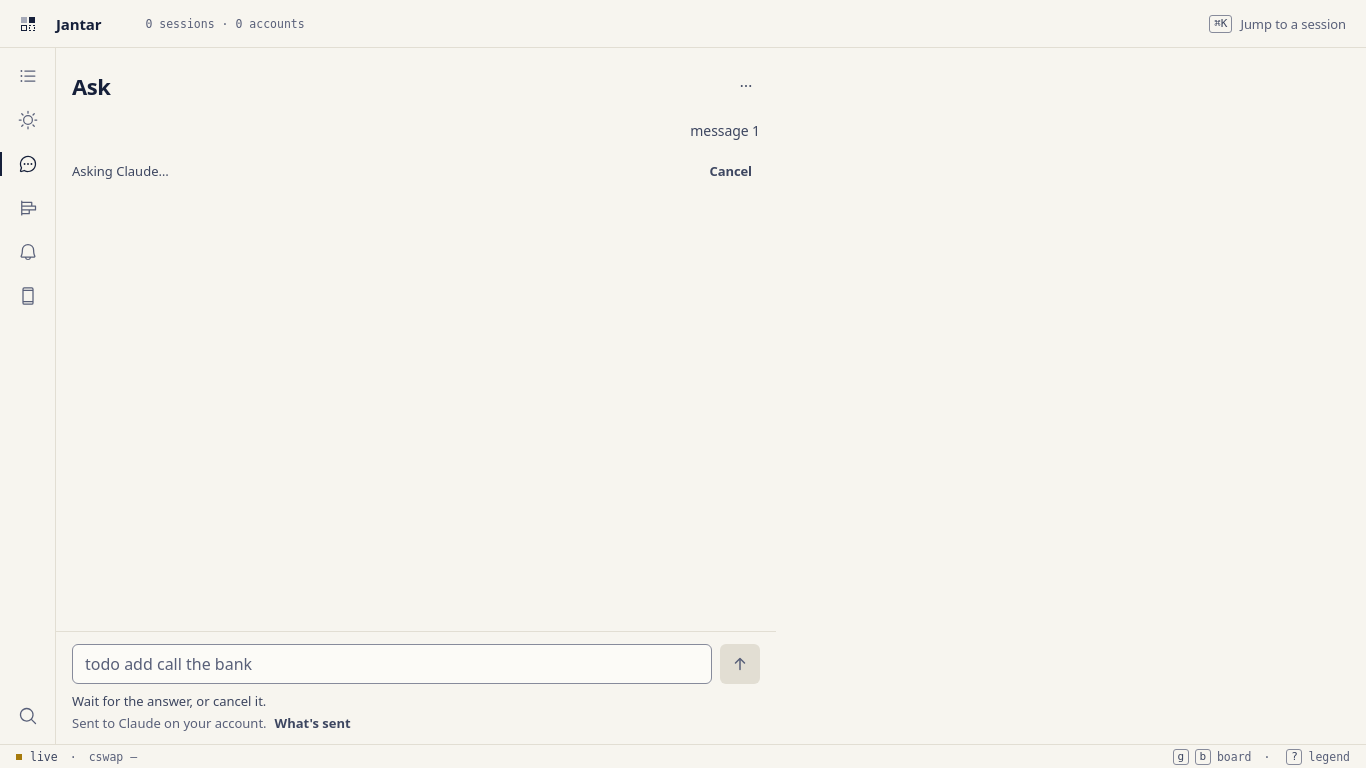
Scenario: the page › a refused Cancel shows in ember under the waiting turn
Click the button "Cancel". click: (731, 171)
box: top-left (702, 155), bottom-right (760, 187)
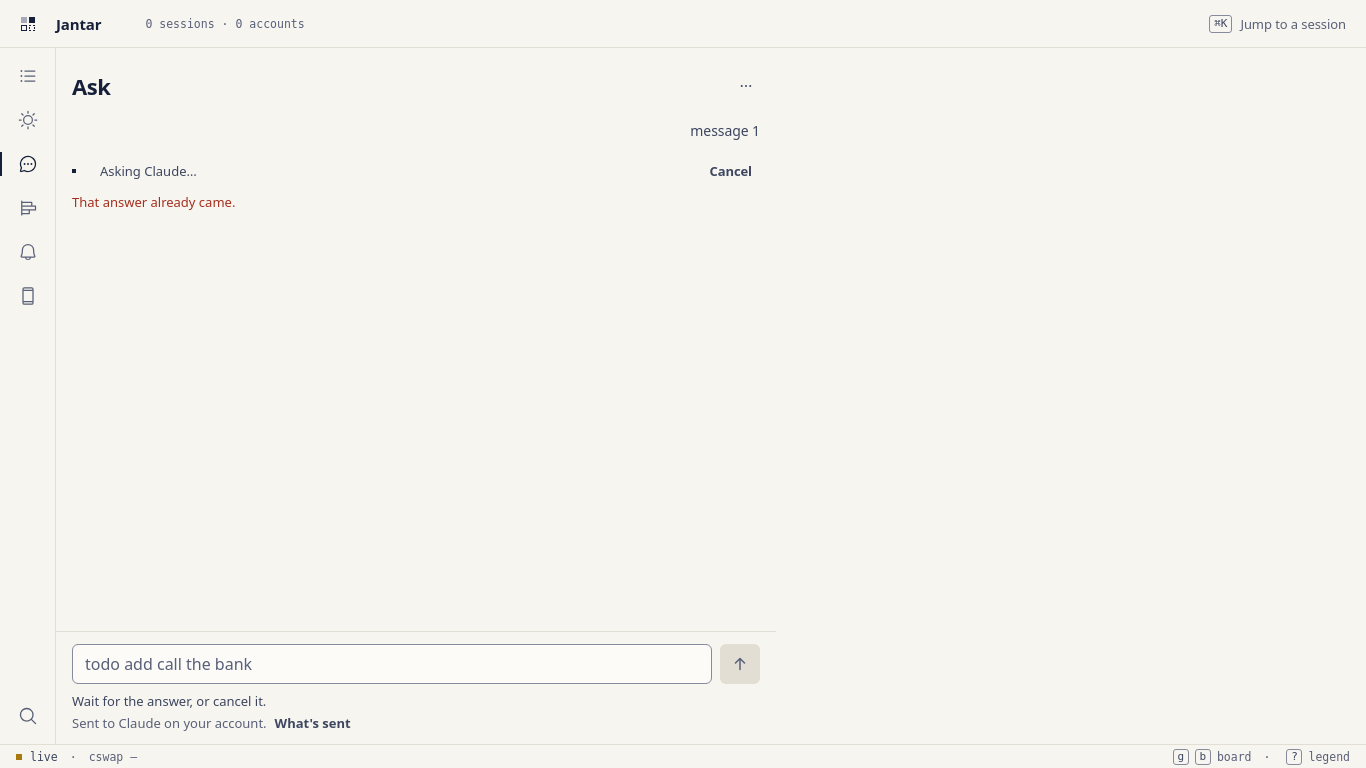
Expected: the list item shows "message 1", top-left (690, 121), bottom-right (760, 140)
Result: the message "That answer already came." is shown at top-left (72, 193), bottom-right (235, 211)
